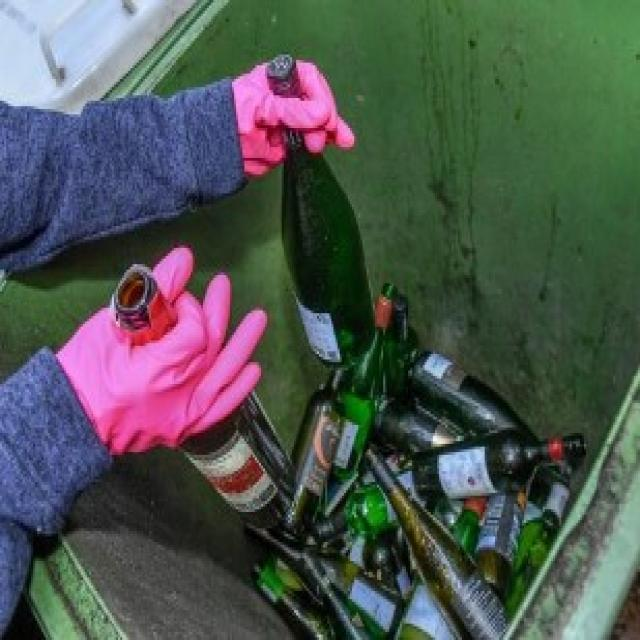electronic: (247, 277, 587, 640), (112, 266, 302, 532), (255, 52, 377, 364)
